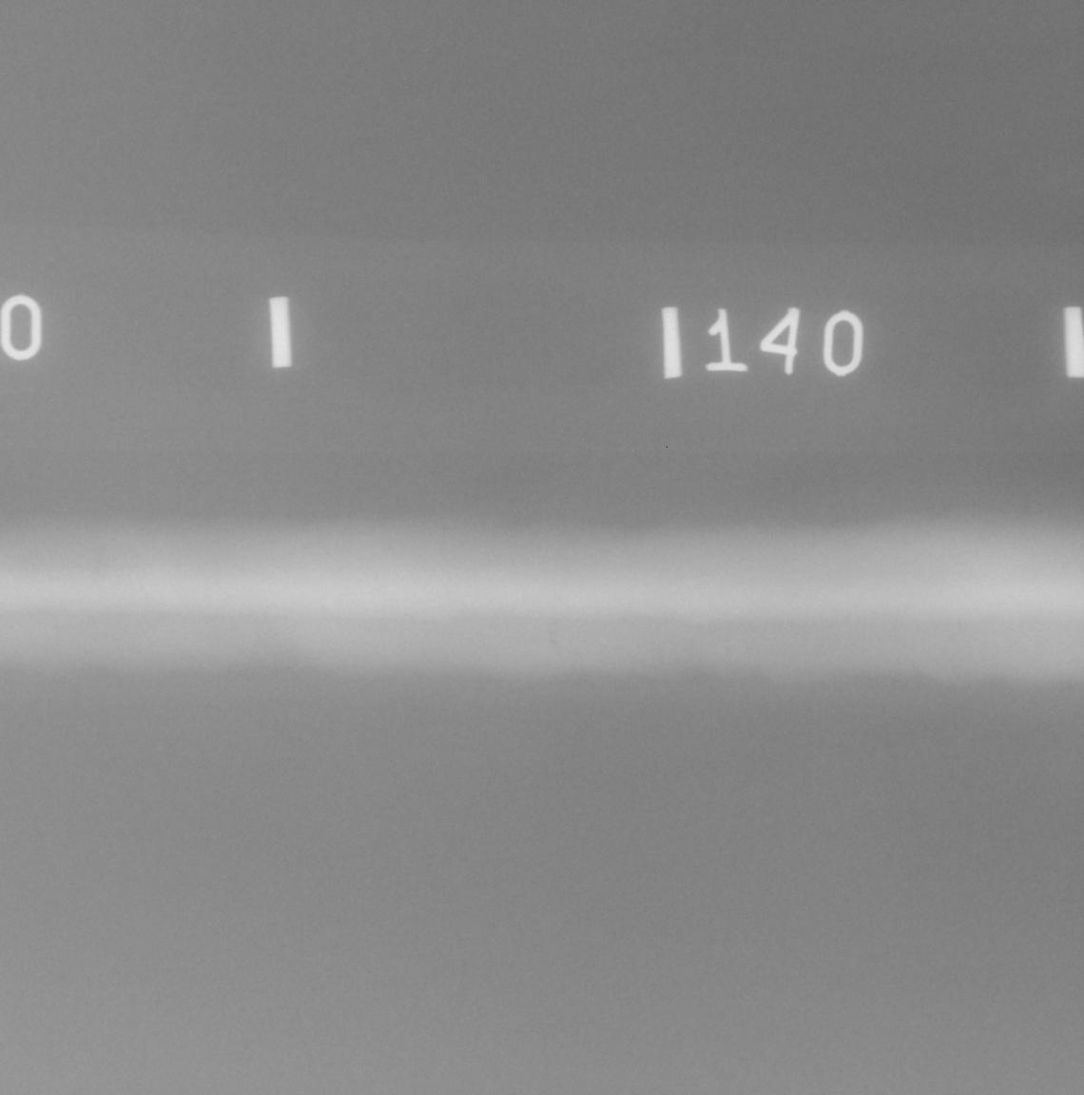Pore/Porosity: (548, 633, 555, 645), (555, 620, 560, 627), (558, 595, 561, 602), (546, 663, 550, 666)
